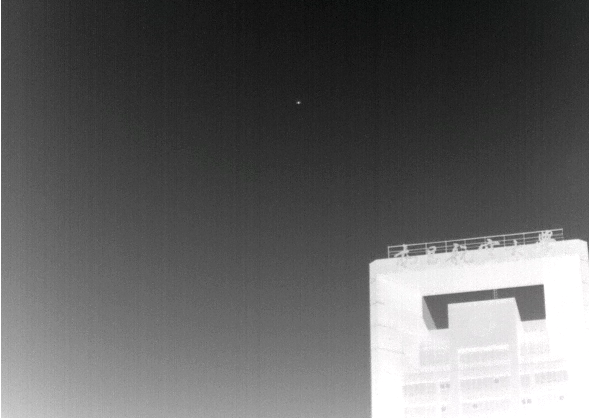dim target: (296, 100, 302, 105)
